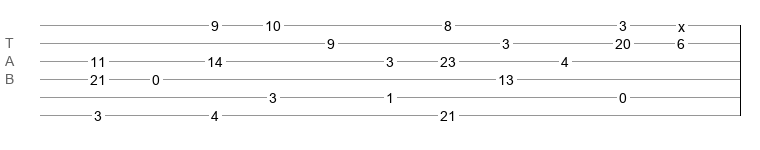0: (152, 72, 160, 82), (619, 90, 627, 100)
1: (386, 90, 394, 100)
10: (265, 18, 281, 28)
11: (90, 54, 106, 64)
13: (498, 72, 514, 82)
14: (207, 54, 223, 64)
20: (615, 36, 631, 46)
21: (90, 72, 106, 82), (440, 108, 456, 118)
23: (440, 54, 456, 64)
3: (94, 108, 102, 118), (269, 90, 277, 100), (386, 54, 394, 64), (502, 36, 510, 46), (619, 18, 627, 28)
4: (211, 108, 219, 118), (561, 54, 569, 64)
6: (677, 36, 685, 46)
8: (444, 18, 452, 28)
9: (211, 18, 219, 28), (327, 36, 335, 46)
x: (678, 19, 685, 27)
